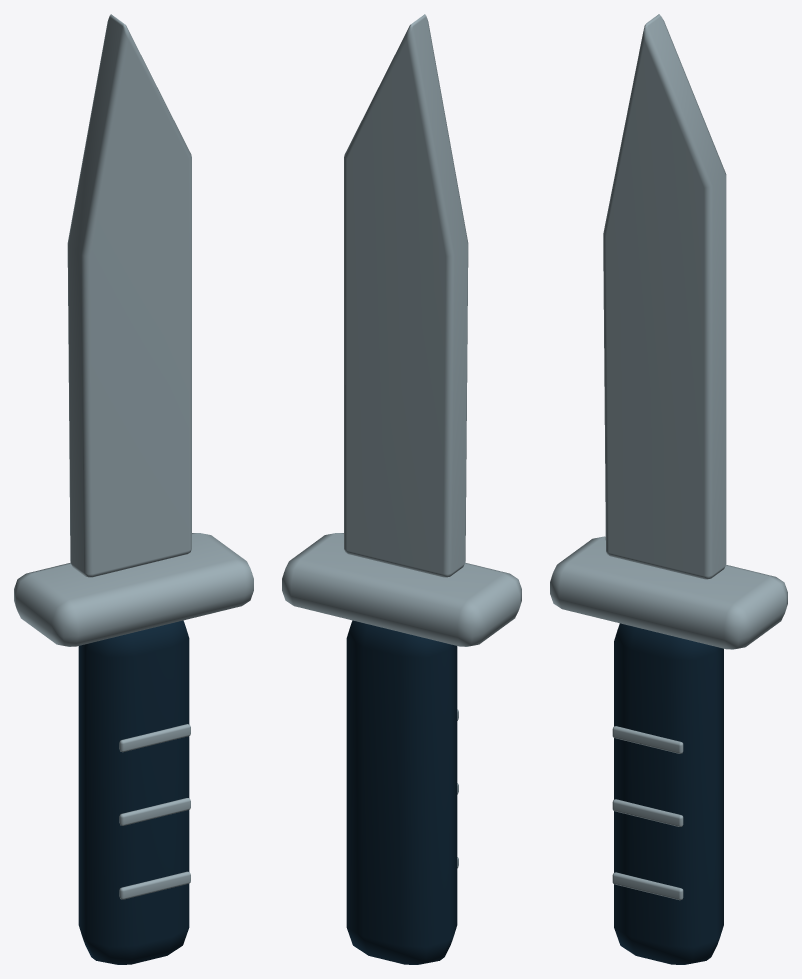
File: knife.glb
3 views of the same model, side by side, from view 1: azimuth 30°, elevation 25°; view 2: azimuth 150°, elevation 25°; view 3: azimuth 330°, elevation 25° (orthographic).
Parts seen in each view (by area): view 1: knife; view 2: knife; view 3: knife.
Part boxes in pixels (x1,y1,x2,y2): knife: [14, 14, 253, 964]; knife: [282, 14, 521, 964]; knife: [550, 14, 787, 964].
Bounding box in the file's own units: 0.071 × 0.3199 × 0.034.
